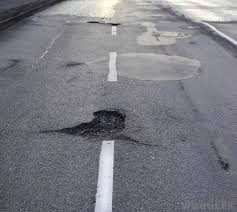pothole: (57, 102, 134, 141), (87, 16, 123, 25)
